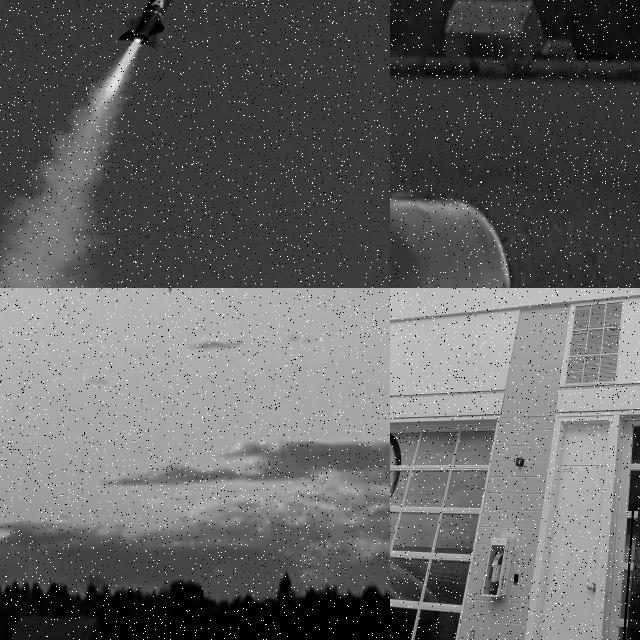Rocket: (117, 0, 207, 49), (168, 288, 173, 292)
